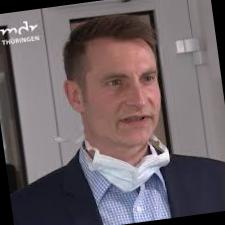mask_weared_incorrect: (91, 63, 169, 173)
